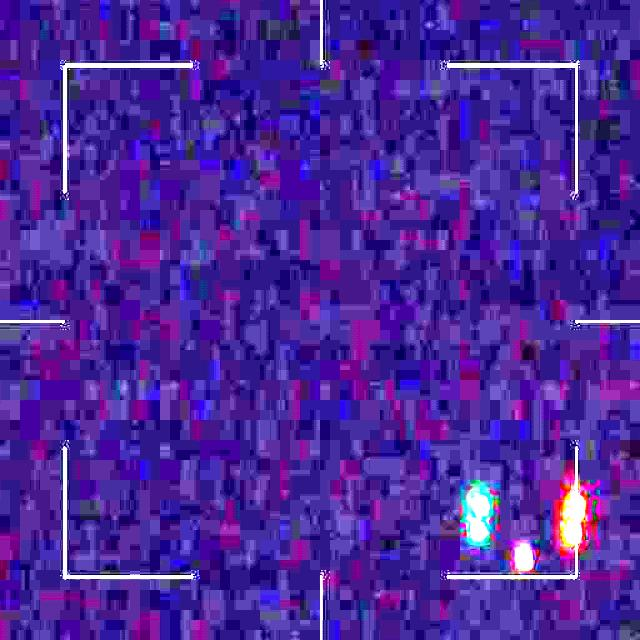bird: (469, 479, 588, 571)
